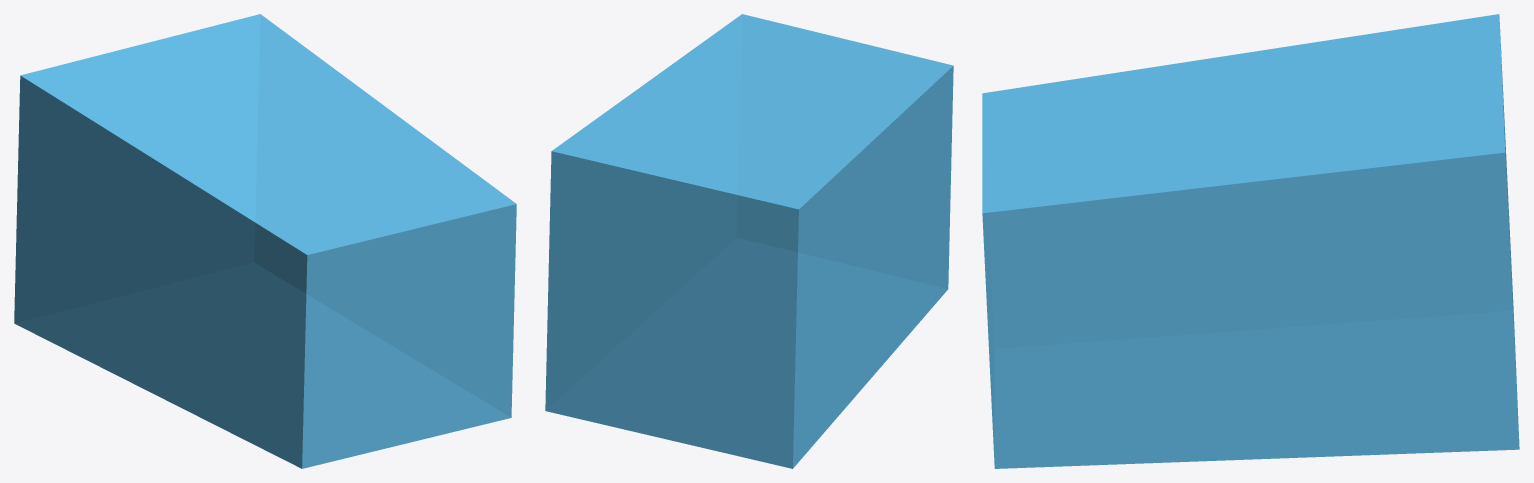
File: Event_420604493_HBrechit_3.fbx
3 views of the same model, side by side, from view 1: azimuth 30°, elevation 25°; view 2: azimuth 150°, elevation 25°; view 3: azimuth 270°, elevation 25° (orthographic). The views are drawn at different scales.
Parts seen in each view (by area): view 1: Model; view 2: Model; view 3: Model.
Boxes of the visible parts, <box> form: Model: <box>14,14,516,468</box>; Model: <box>545,14,953,468</box>; Model: <box>982,14,1519,468</box>.
Bounding box in the file's own units: 0.5333 × 0.4664 × 0.7644.
